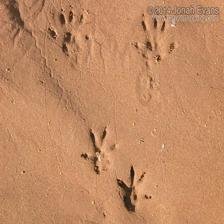rat: (133, 11, 182, 70), (76, 122, 118, 176), (114, 164, 152, 216)
